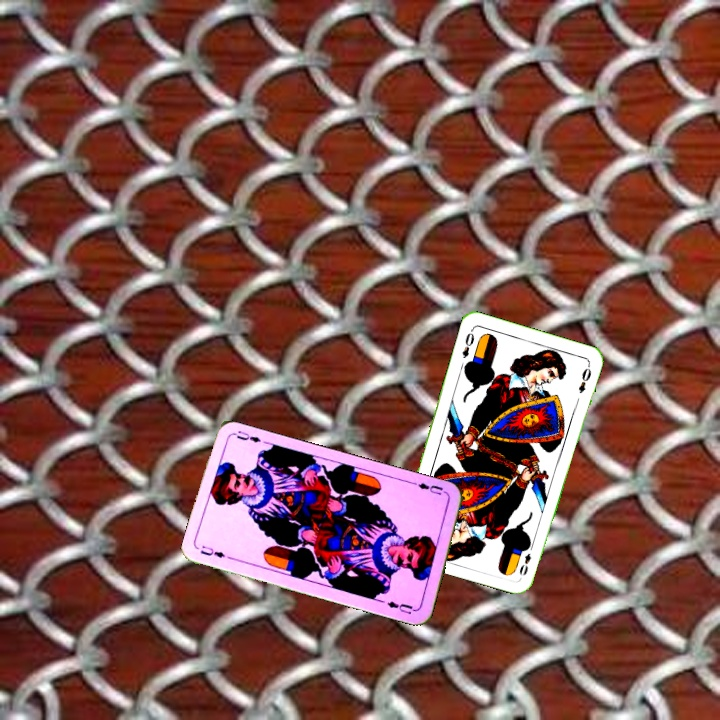EO: (458, 325, 477, 361), (515, 549, 534, 578)
EU: (414, 479, 449, 498), (196, 541, 228, 560)
